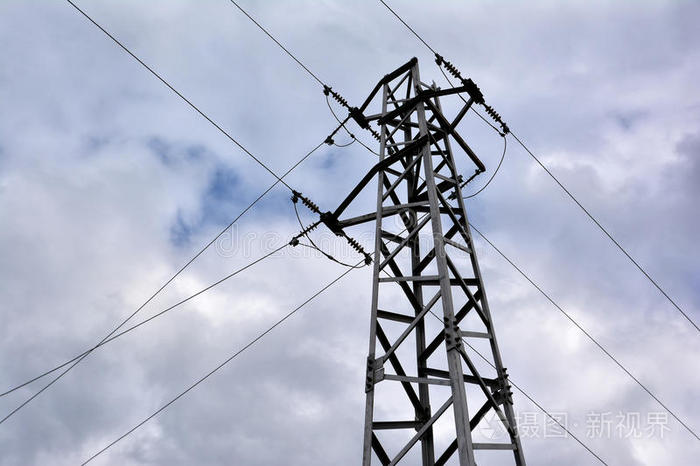insulator: (330, 90, 351, 111), (443, 58, 461, 78), (483, 104, 501, 123), (297, 221, 315, 239), (300, 196, 318, 213), (348, 237, 364, 254)
